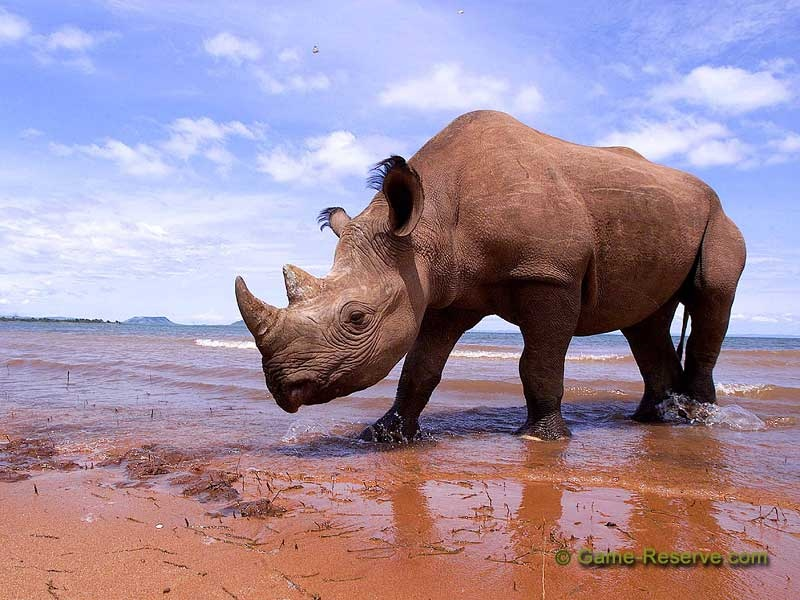rhino: (231, 110, 749, 444)
